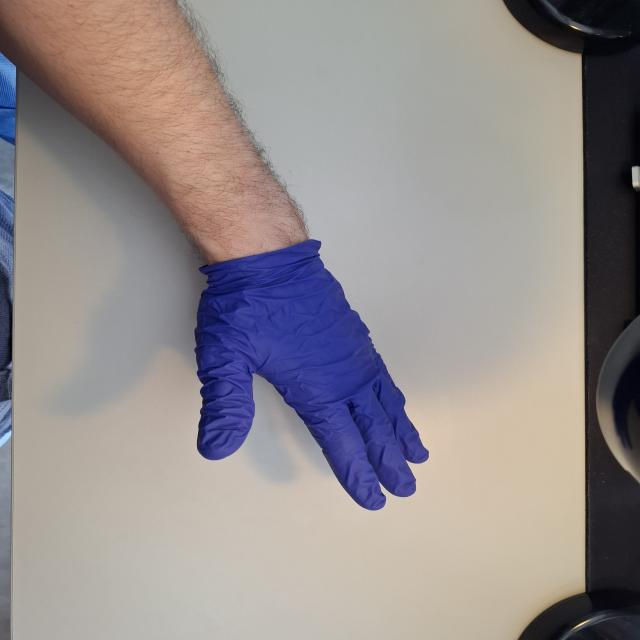glove_on: (190, 244, 432, 512)
